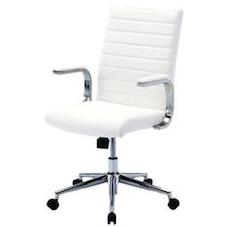chair: (36, 10, 198, 212)
